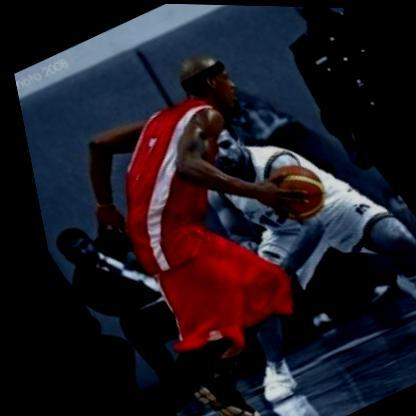basketball: (238, 151, 332, 230)
